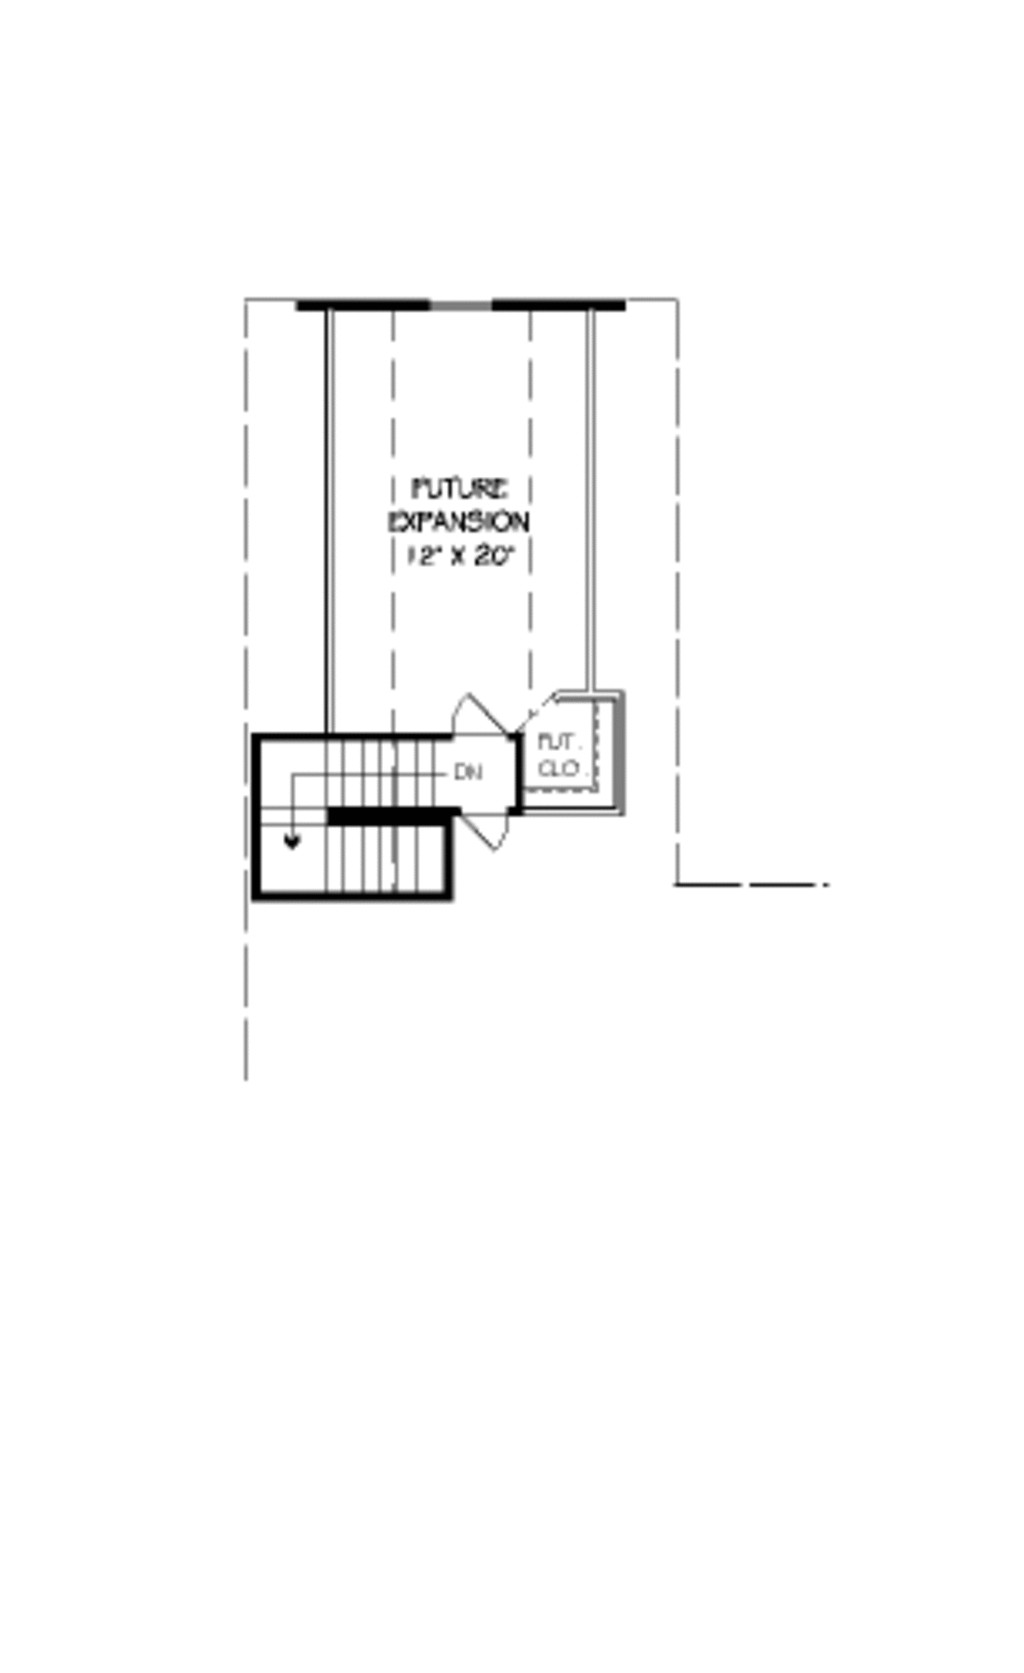door: (443, 679, 511, 749), (453, 788, 515, 856)
stairs: (246, 715, 448, 915)
window: (425, 282, 507, 327)
